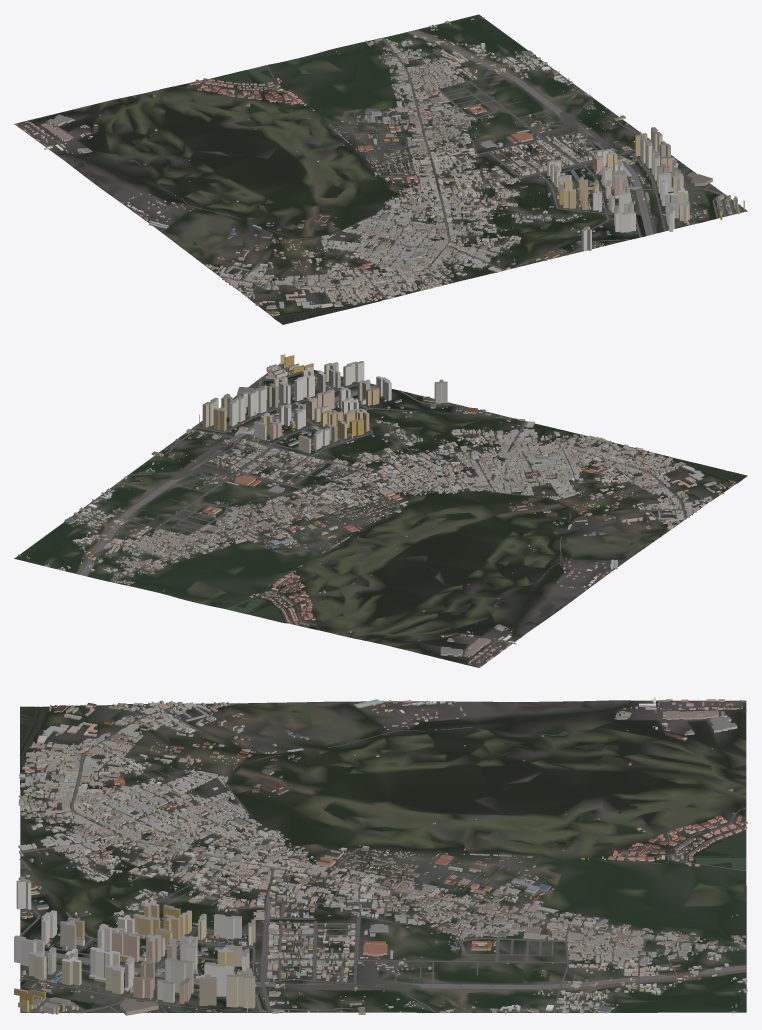
3 views of the same model, one above another, from view 1: azimuth 30°, elevation 25°; view 2: azimuth 150°, elevation 25°; view 3: azimuth 270°, elevation 25° (orthographic). The views are drawn at different scales.
Visible parts, largest first — view 1: ground, buildings, roads, water; view 2: ground, buildings, roads, water; view 3: ground, buildings, roads, water.
Boxes of the visible parts, x1,y1,x2,y2 form: ground: (14, 14, 747, 324); buildings: (15, 17, 744, 316); roads: (28, 26, 742, 306); water: (128, 65, 716, 320); ground: (14, 364, 747, 667); buildings: (18, 354, 736, 667); roads: (61, 365, 707, 664); water: (197, 370, 741, 622); ground: (20, 700, 746, 1012); buildings: (14, 697, 747, 1015); roads: (19, 701, 746, 1013); water: (20, 706, 746, 1012).
Size of the model in its own units: 2843 by 135 by 2831.
